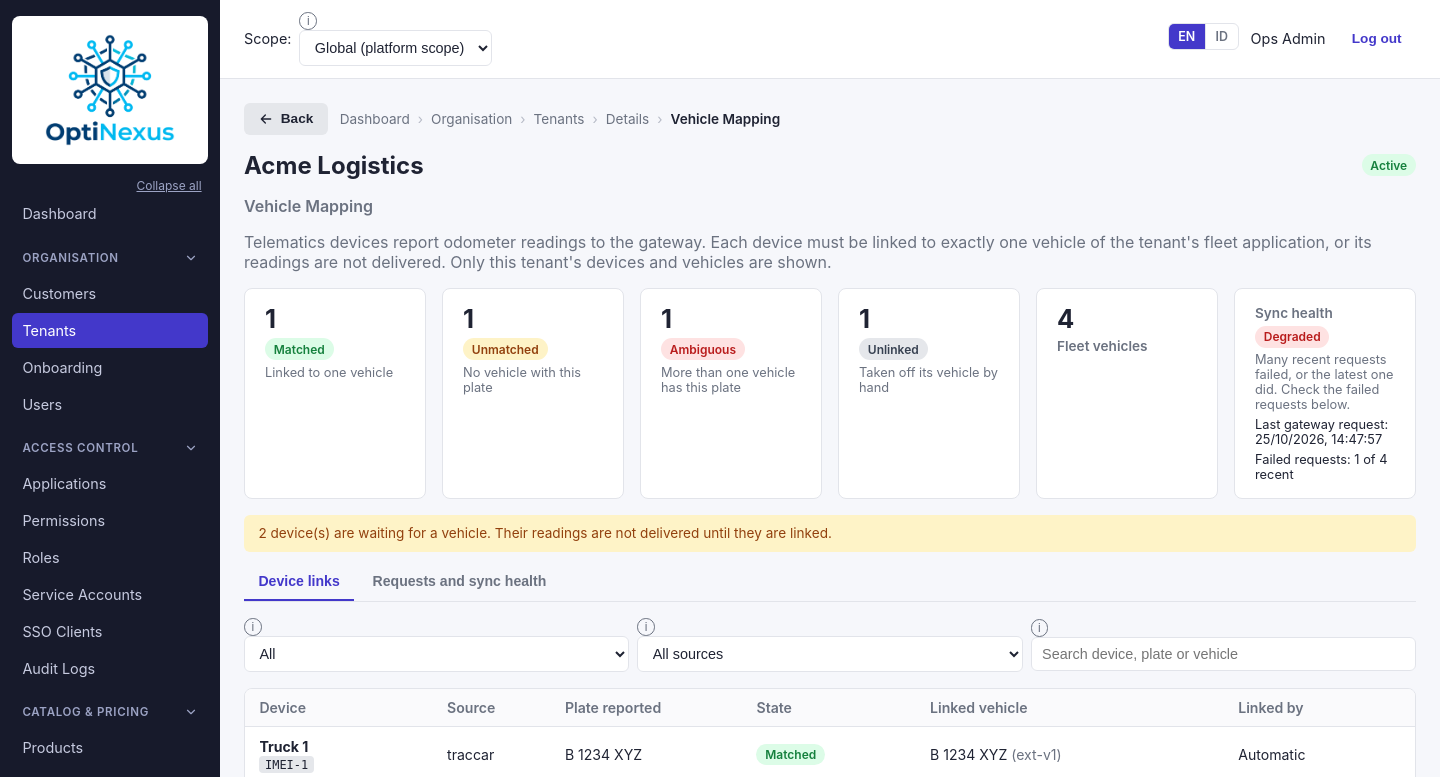
Test: request logs and sync health › shows health, the failed-request count and the log table; "failed only" filters the table
The width and height of the screenshot is (1440, 777).
Check: the text "Truck 1" is shown, box [259, 738, 308, 755]
Check: the text "Degraded" is shown, box [1255, 326, 1330, 348]
Click the tab "Requests and sync health" at (459, 582), box [358, 564, 561, 601]
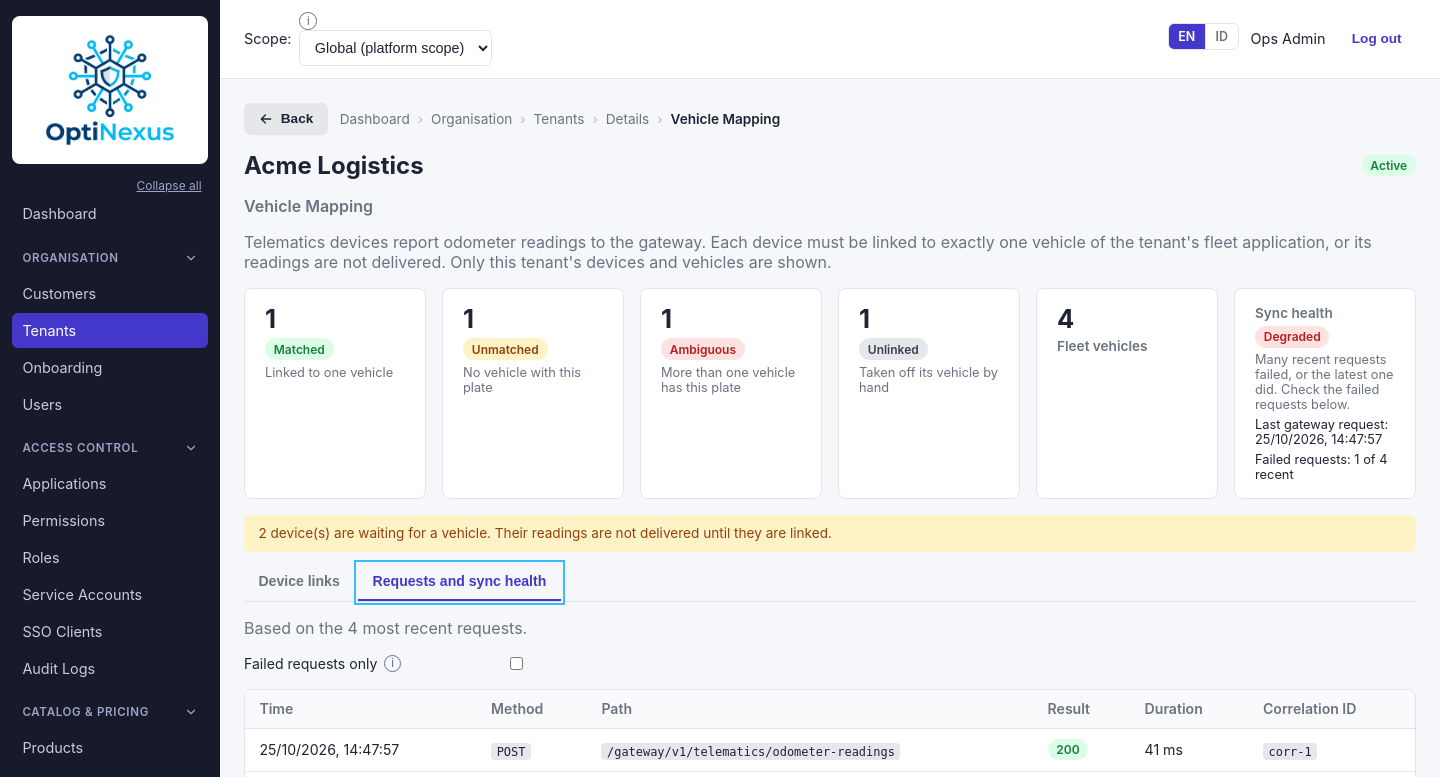
Click the checkbox labelled "Failed requests only" at (517, 663), box [413, 657, 620, 670]
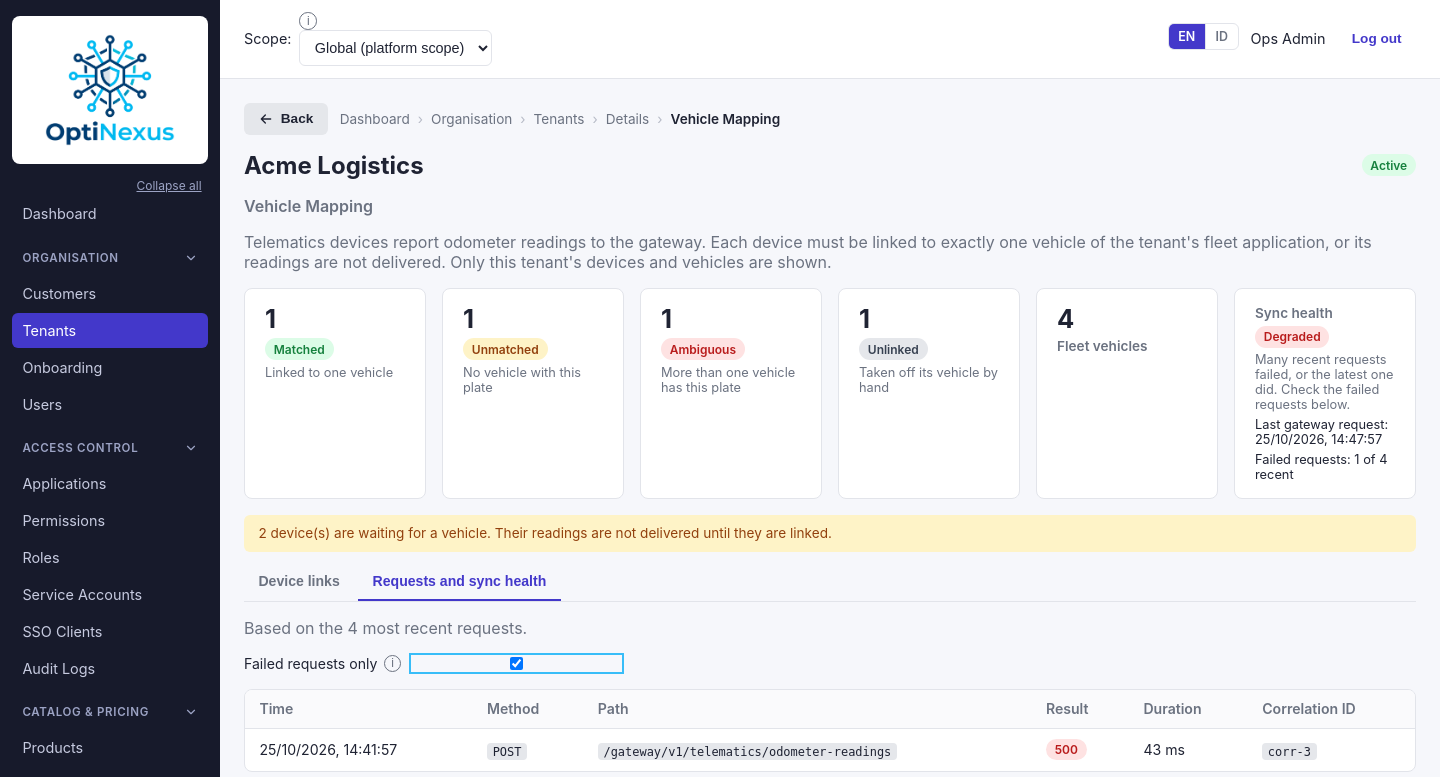
Check: the text "500" is shown, box [1046, 739, 1087, 760]
Check: the number of rows is 2, box [245, 690, 1415, 728]; [245, 728, 1415, 771]
